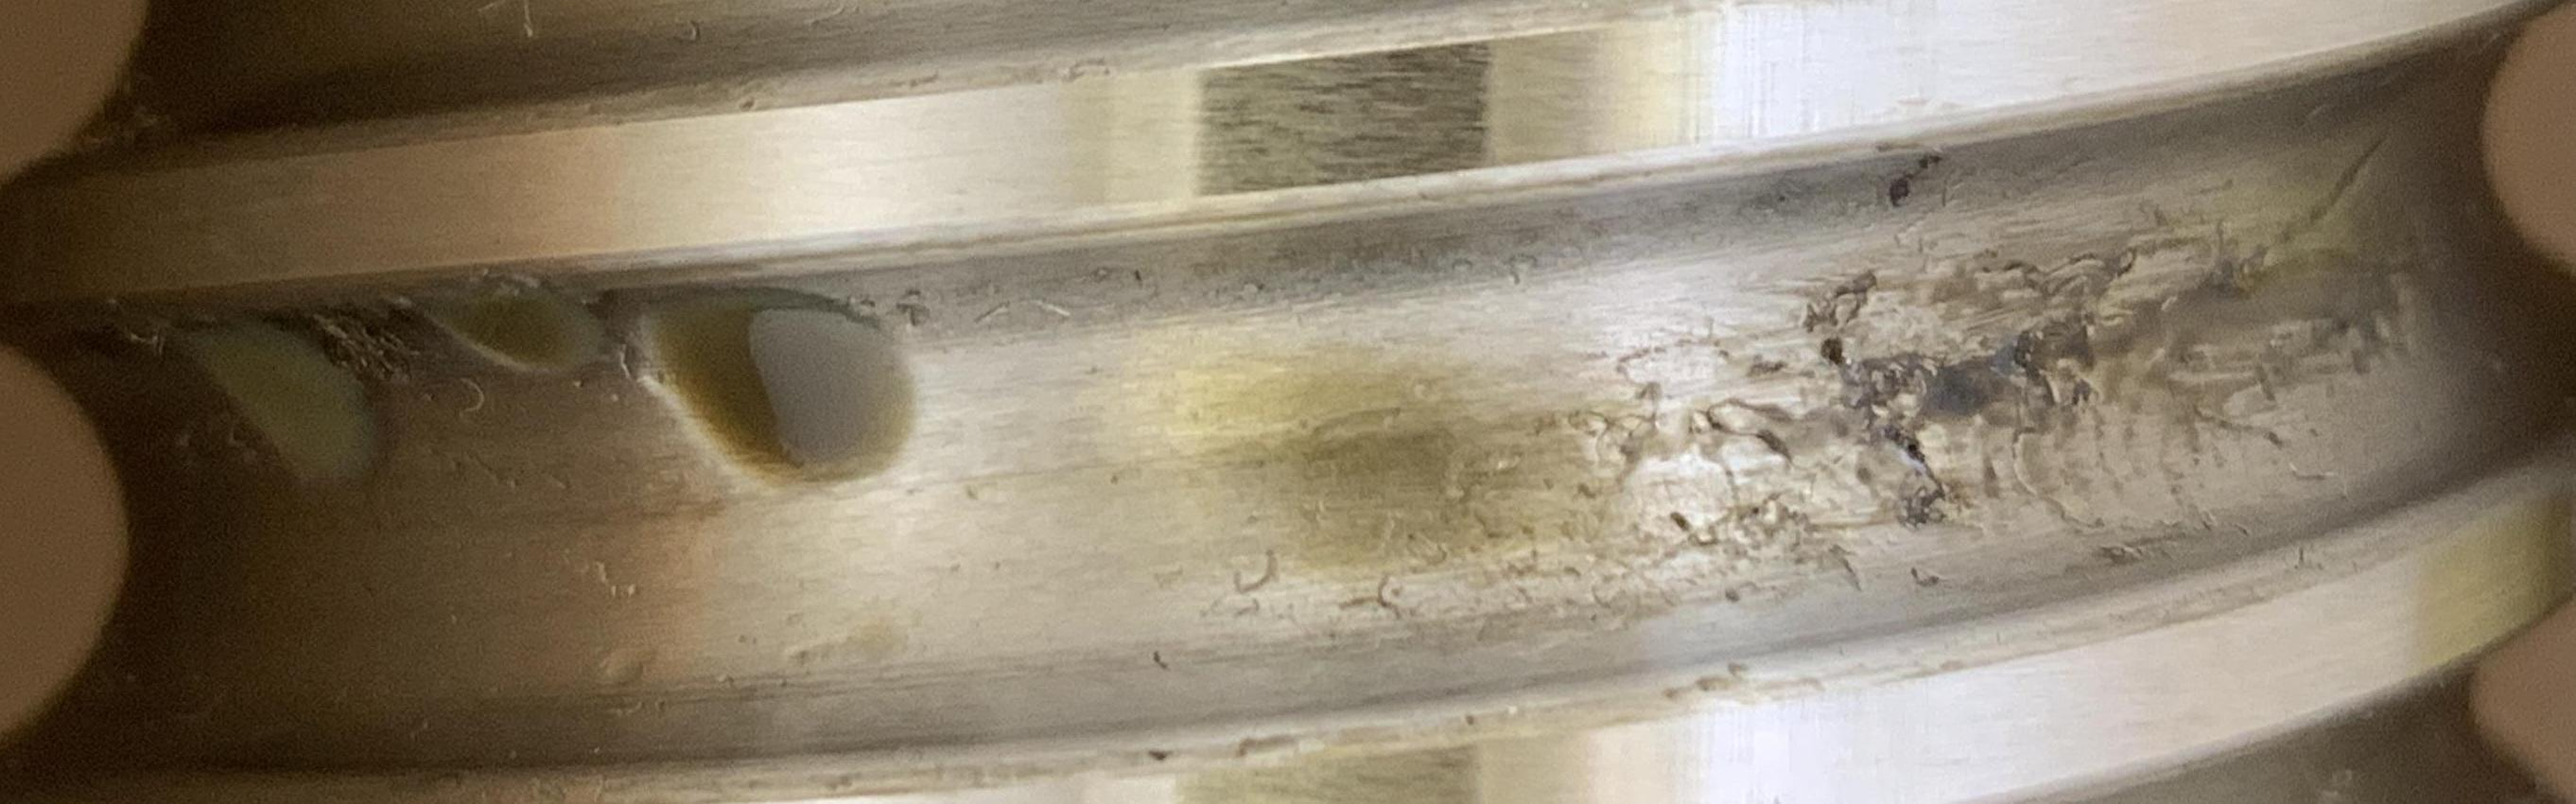pitting: (1888, 153, 1942, 207)
